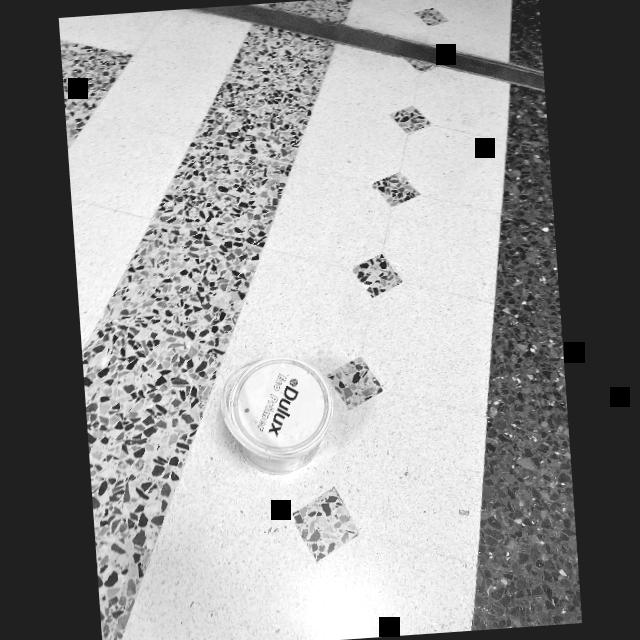paint_bucket: (205, 346, 338, 481)
